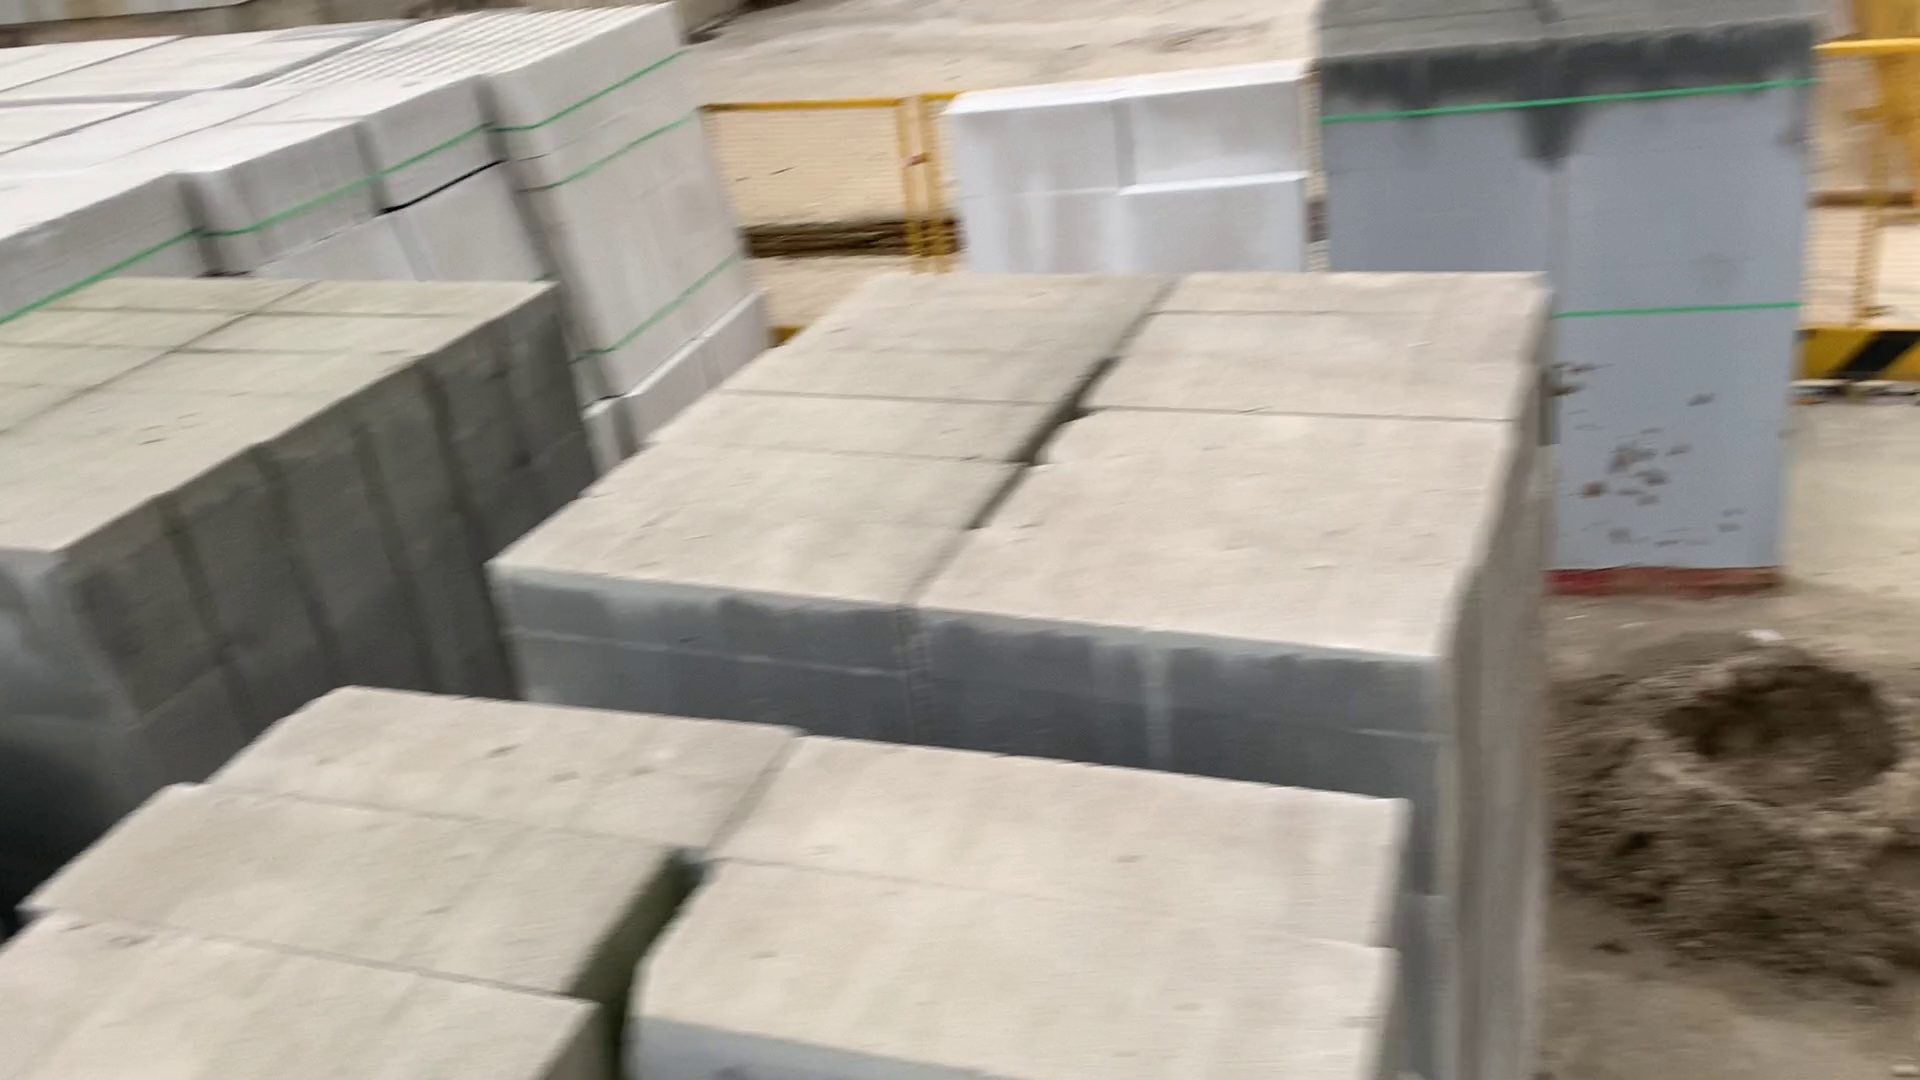brickwork: (3, 684, 1407, 1080), (522, 241, 1549, 694), (1312, 12, 1793, 583), (3, 273, 556, 658), (29, 96, 479, 189), (284, 3, 669, 91), (11, 26, 342, 94)
